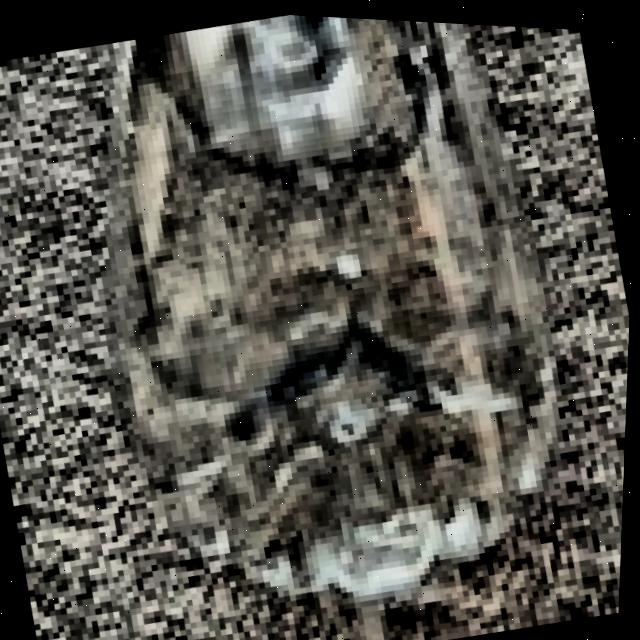plastic: (45, 3, 640, 640)
